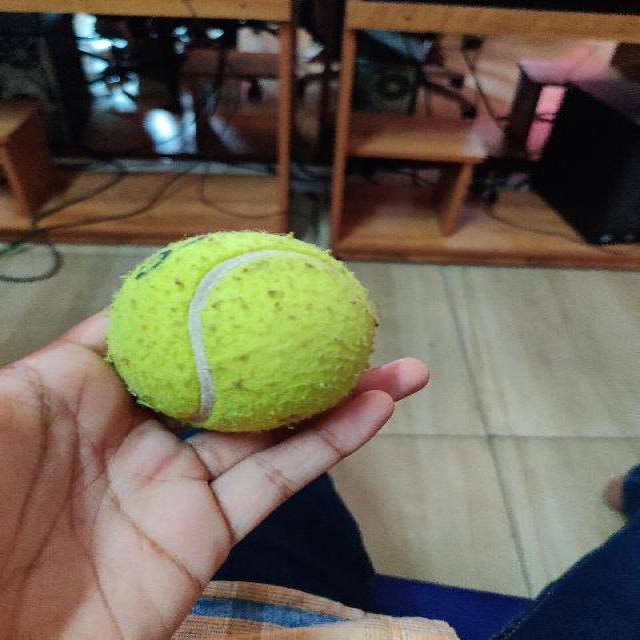tennis-ball: (105, 230, 379, 433)
